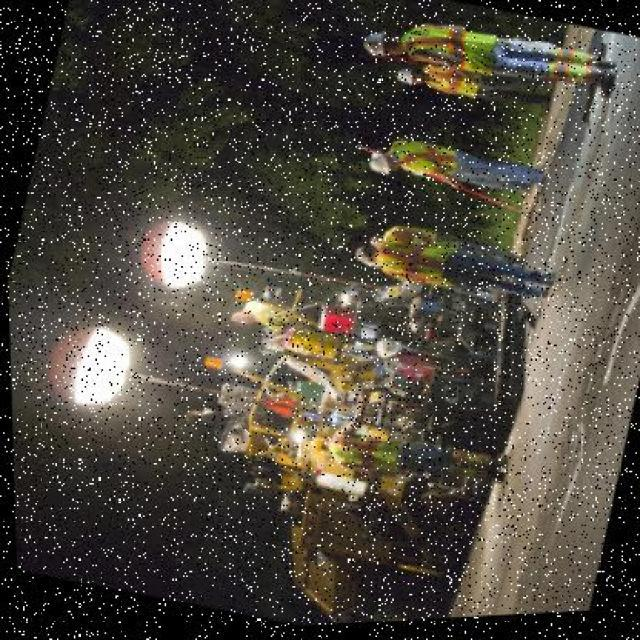helmet: (357, 29, 395, 66), (360, 146, 398, 182), (389, 66, 415, 90)
vest: (402, 14, 510, 89), (369, 223, 467, 299), (318, 419, 416, 491), (392, 134, 468, 194), (417, 63, 495, 109)
